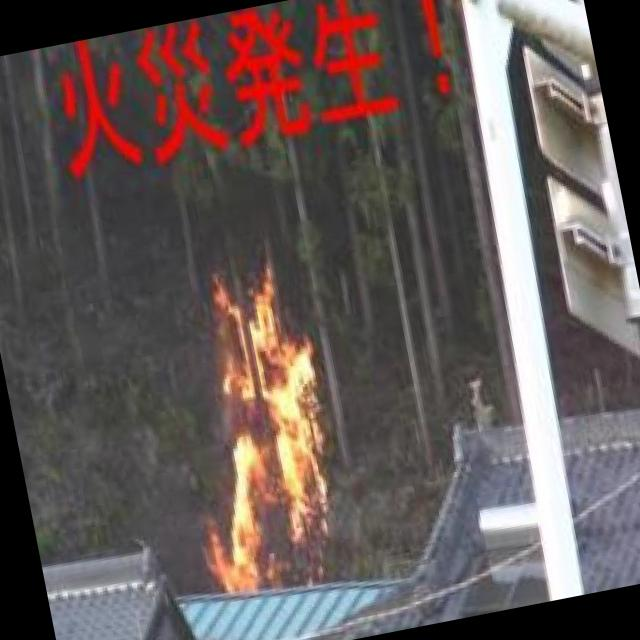Smoke: (147, 226, 366, 606)
